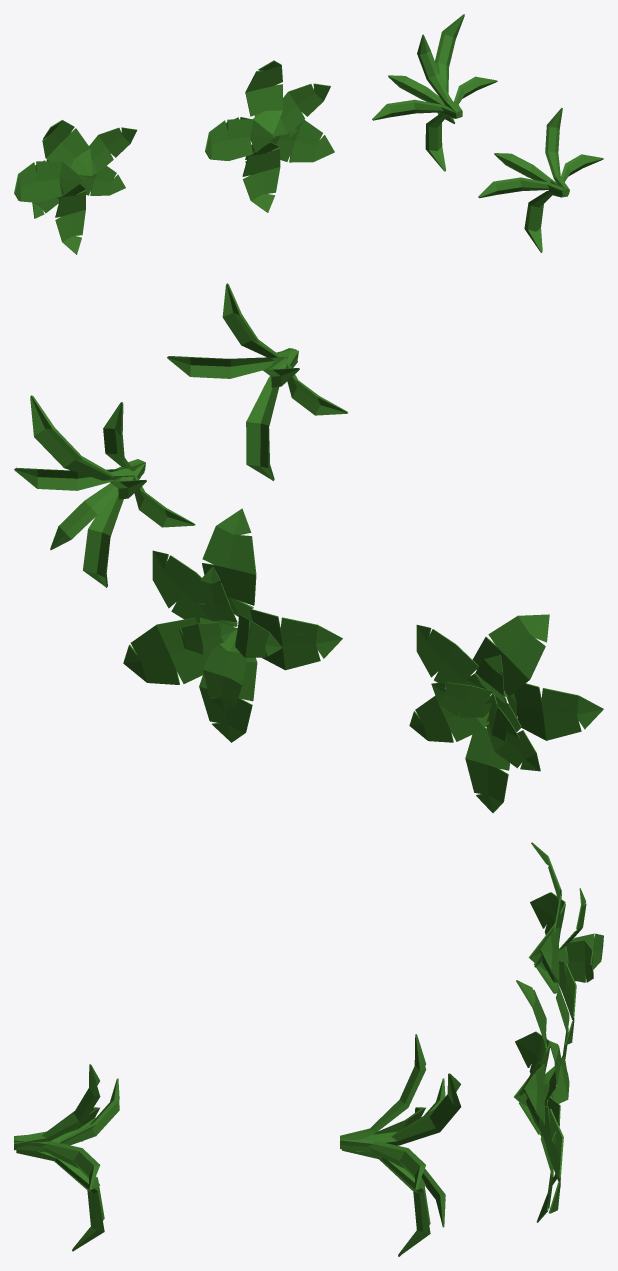
Rendered from bush.FBX.
The picture shows the model from 3 angles, top to bottom: view 1: azimuth 30°, elevation 25°; view 2: azimuth 150°, elevation 25°; view 3: azimuth 270°, elevation 25°; orthographic projection. The views are drawn at different scales.
Parts seen in each view (by area): view 1: Grass_tree, Grass_four, Grass_one, Grass_two; view 2: Grass_tree, Grass_four, Grass_one, Grass_two; view 3: Grass_one, Grass_tree, Grass_four, Grass_two.
Boxes of the visible parts, box(x1,y1,x2,y2) form: Grass_tree: box(205, 60, 334, 212); Grass_four: box(14, 120, 137, 254); Grass_one: box(372, 14, 497, 171); Grass_two: box(478, 108, 603, 252); Grass_tree: box(123, 508, 342, 742); Grass_four: box(409, 614, 603, 812); Grass_one: box(14, 395, 195, 587); Grass_two: box(167, 283, 347, 481); Grass_one: box(340, 1034, 461, 1256); Grass_tree: box(514, 980, 569, 1222); Grass_four: box(528, 842, 603, 1059); Grass_two: box(14, 1064, 119, 1251).
Bounding box in the file's own units: 525 × 202 × 391.
